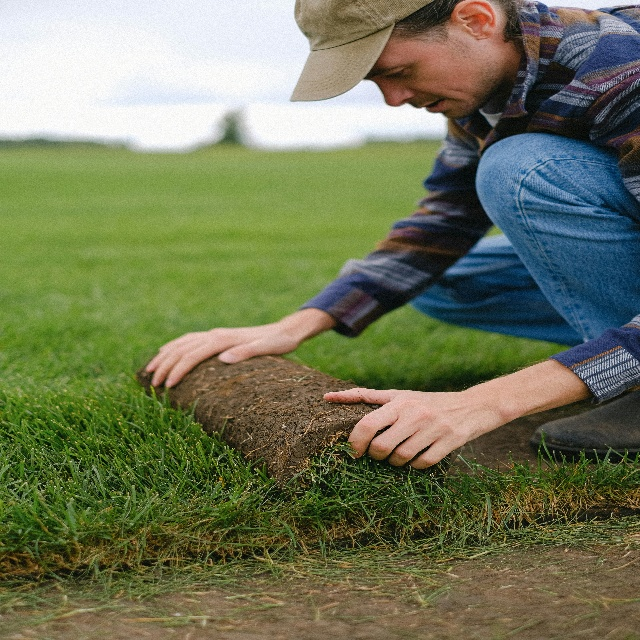Sin_guantes: (321, 386, 470, 470), (140, 325, 299, 391)
